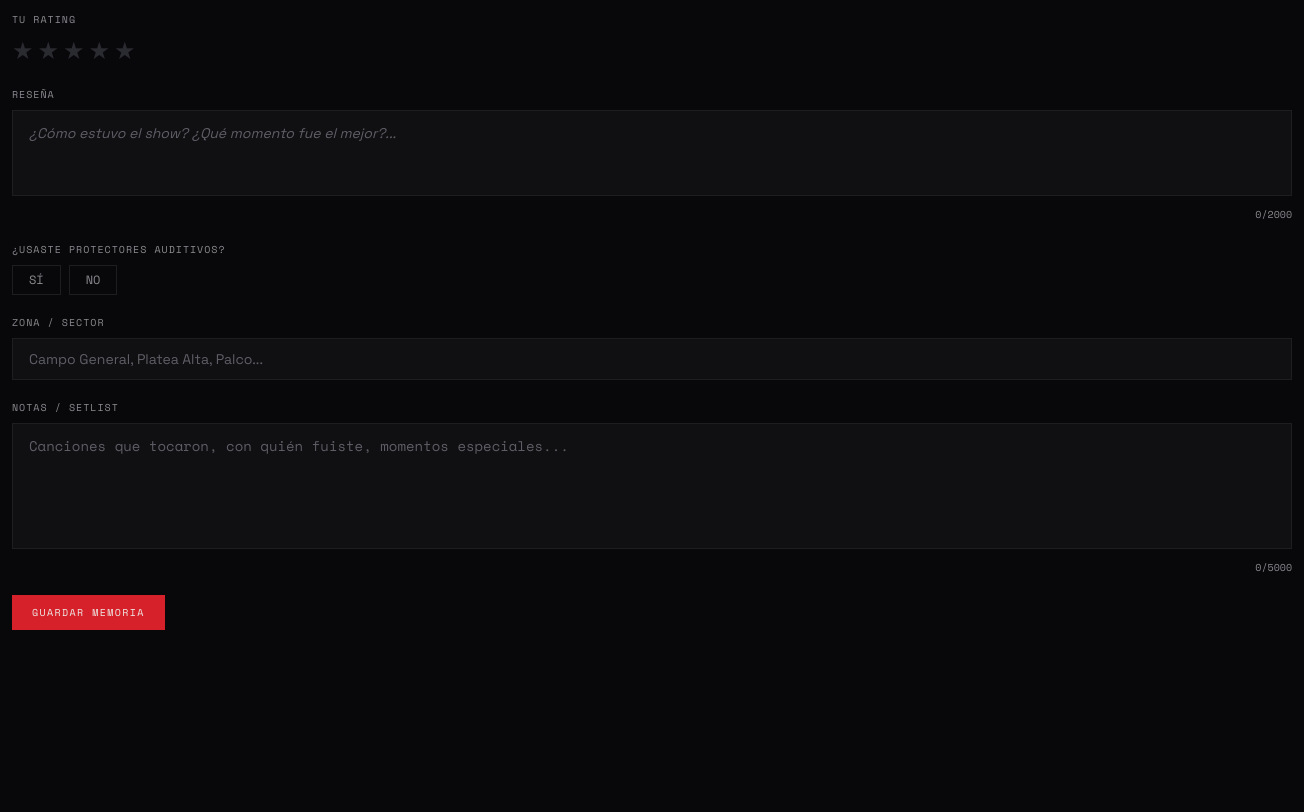
Test: RatingAndReviewForm › shows the error message when saving fails
Click the button "Guardar memoria". click: point(88, 612)
box: [12,595,165,630]
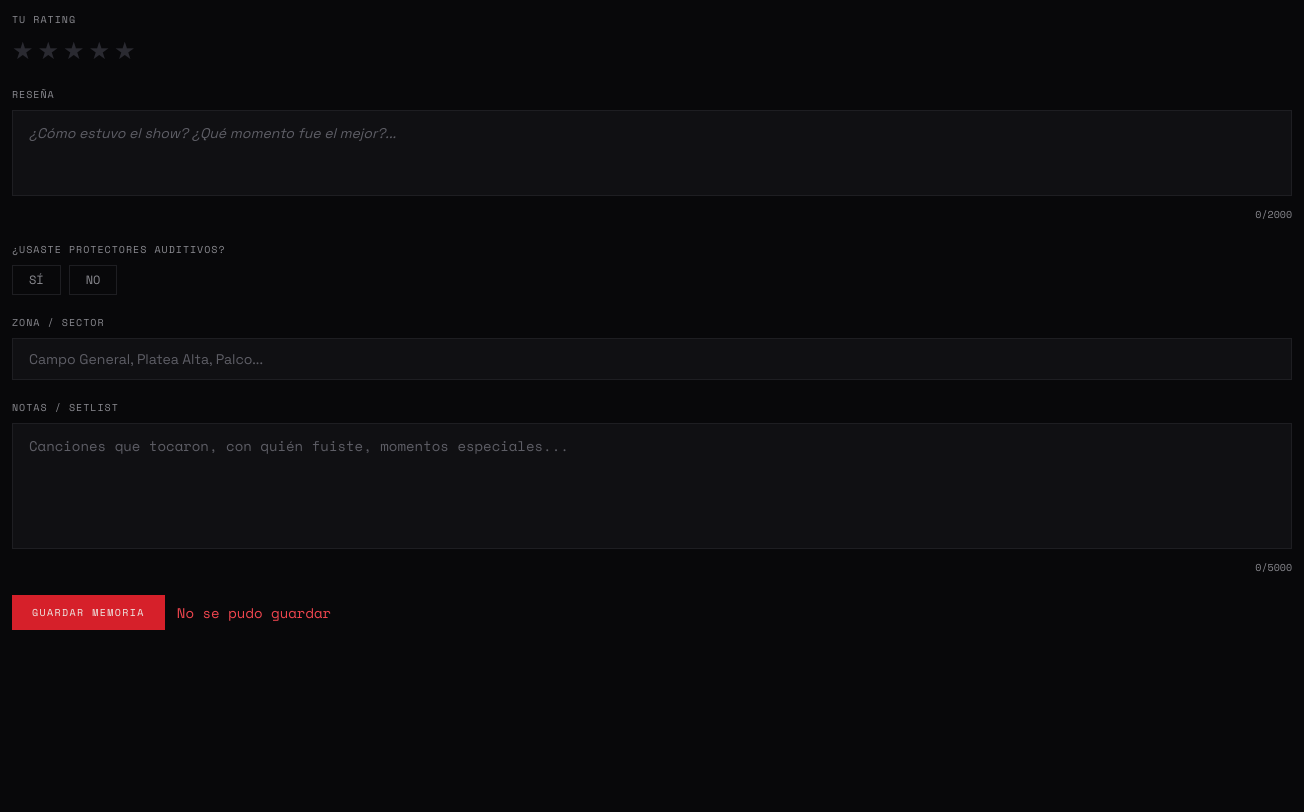
Expected: the text "No se pudo guardar" is shown, [177,602,331,622]
